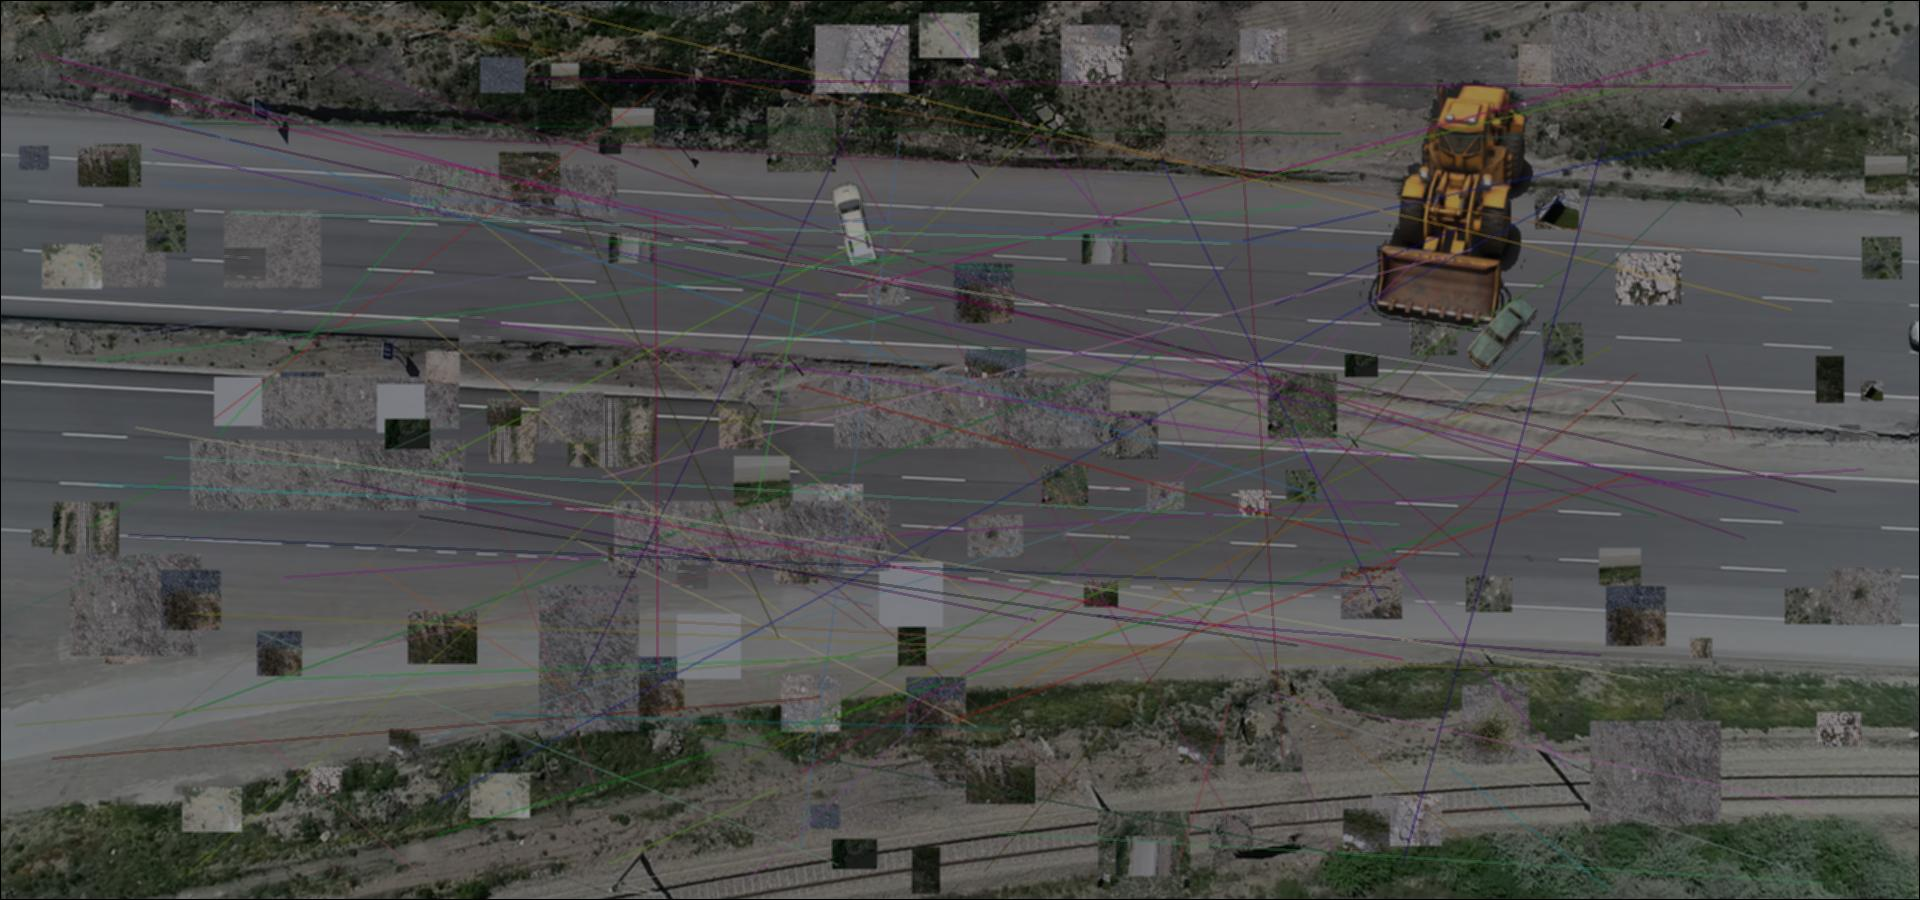arac: (1344, 61, 1540, 336), (1468, 291, 1538, 370), (829, 180, 880, 266)
